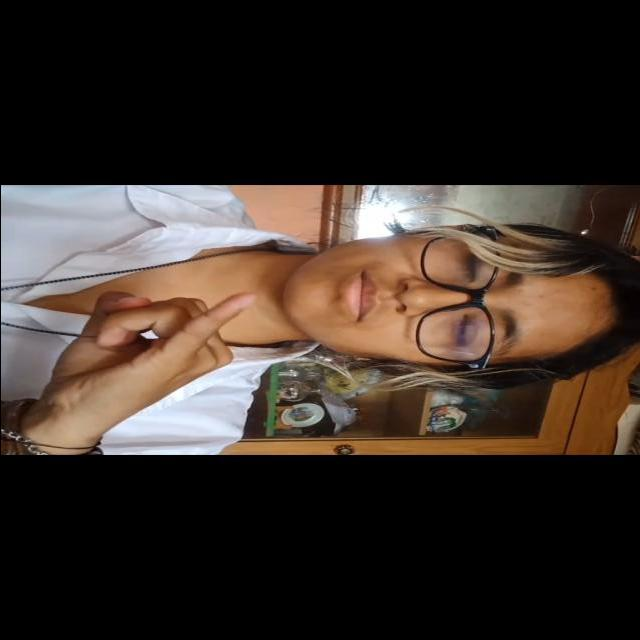J: (22, 255, 260, 412)
